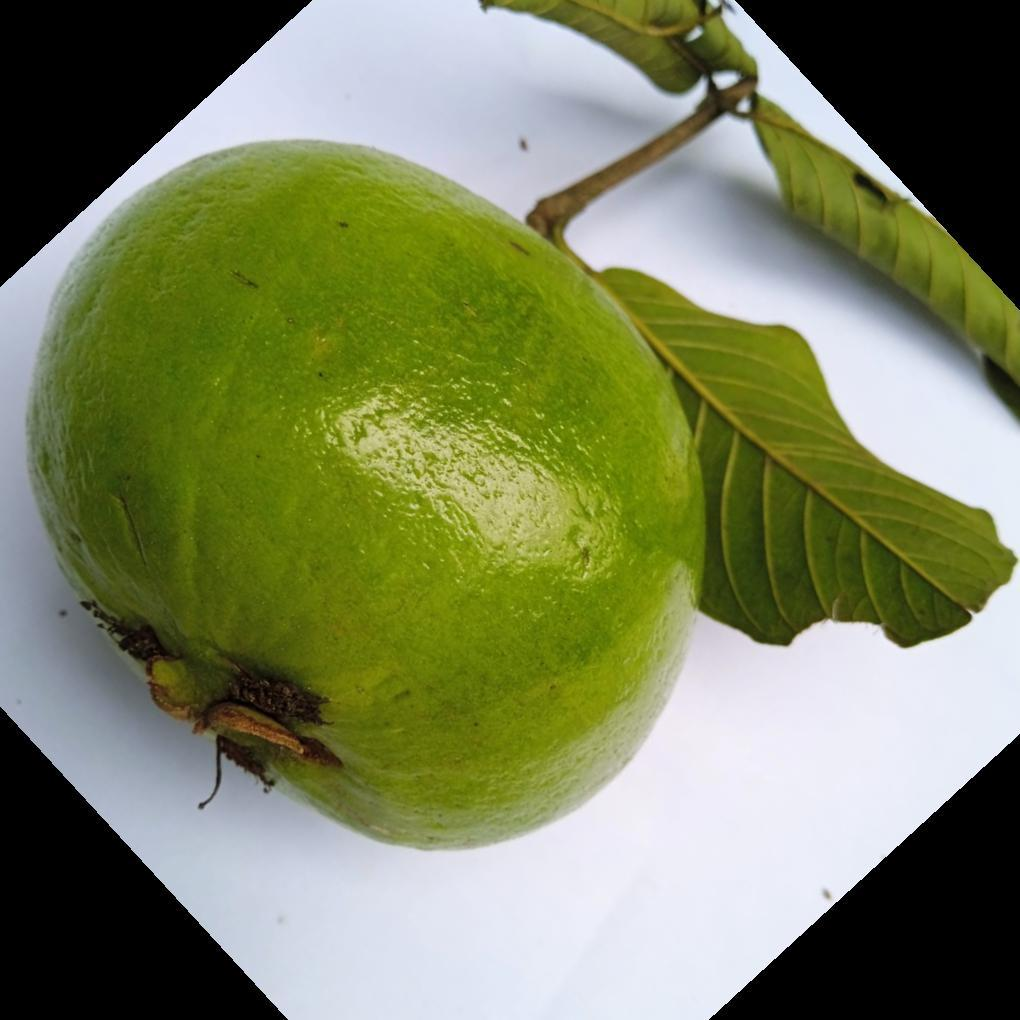FreshGuava: (24, 139, 748, 855)
